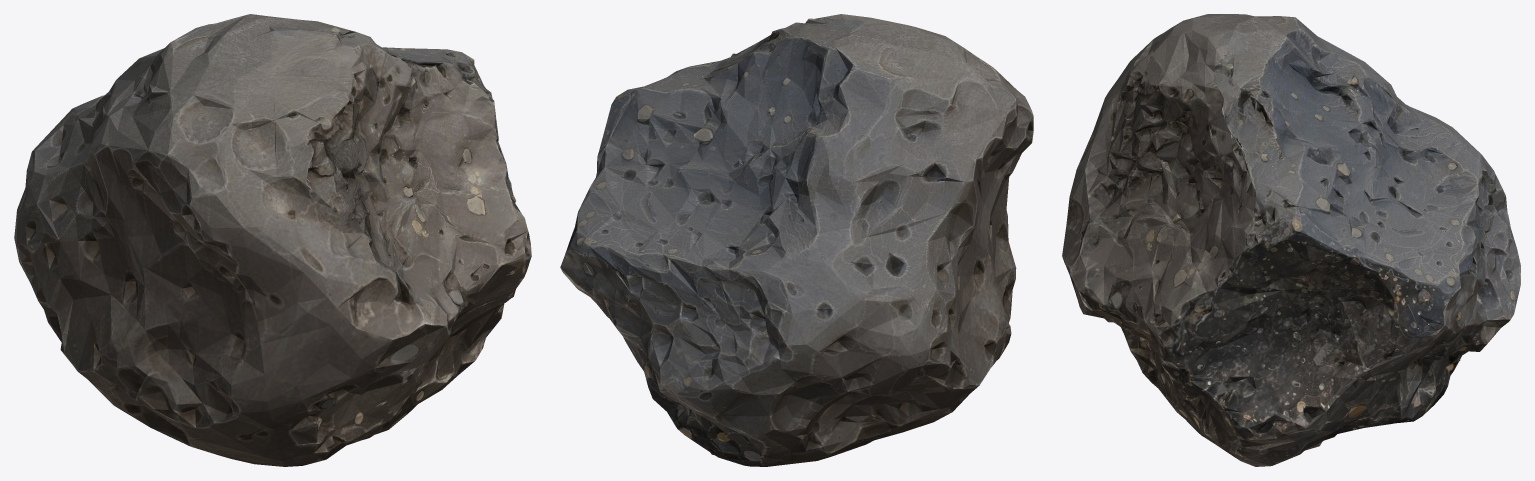
Rendered from meteorit.glb.
3 views of the same model, side by side, from view 1: azimuth 30°, elevation 25°; view 2: azimuth 150°, elevation 25°; view 3: azimuth 270°, elevation 25° (orthographic). The views are drawn at different scales.
Visible parts, largest first — view 1: tripo_node_a1d23654-b355-44bd-860b-77cae4b32d67; view 2: tripo_node_a1d23654-b355-44bd-860b-77cae4b32d67; view 3: tripo_node_a1d23654-b355-44bd-860b-77cae4b32d67.
Boxes of the visible parts, box(x1,y1,x2,y2) form: tripo_node_a1d23654-b355-44bd-860b-77cae4b32d67: box(14, 14, 531, 466); tripo_node_a1d23654-b355-44bd-860b-77cae4b32d67: box(560, 14, 1033, 466); tripo_node_a1d23654-b355-44bd-860b-77cae4b32d67: box(1062, 14, 1520, 466).
Bounding box in the file's own units: 0.8766 × 0.8753 × 0.9766.
Materials: 1 (1 with a texture image).
